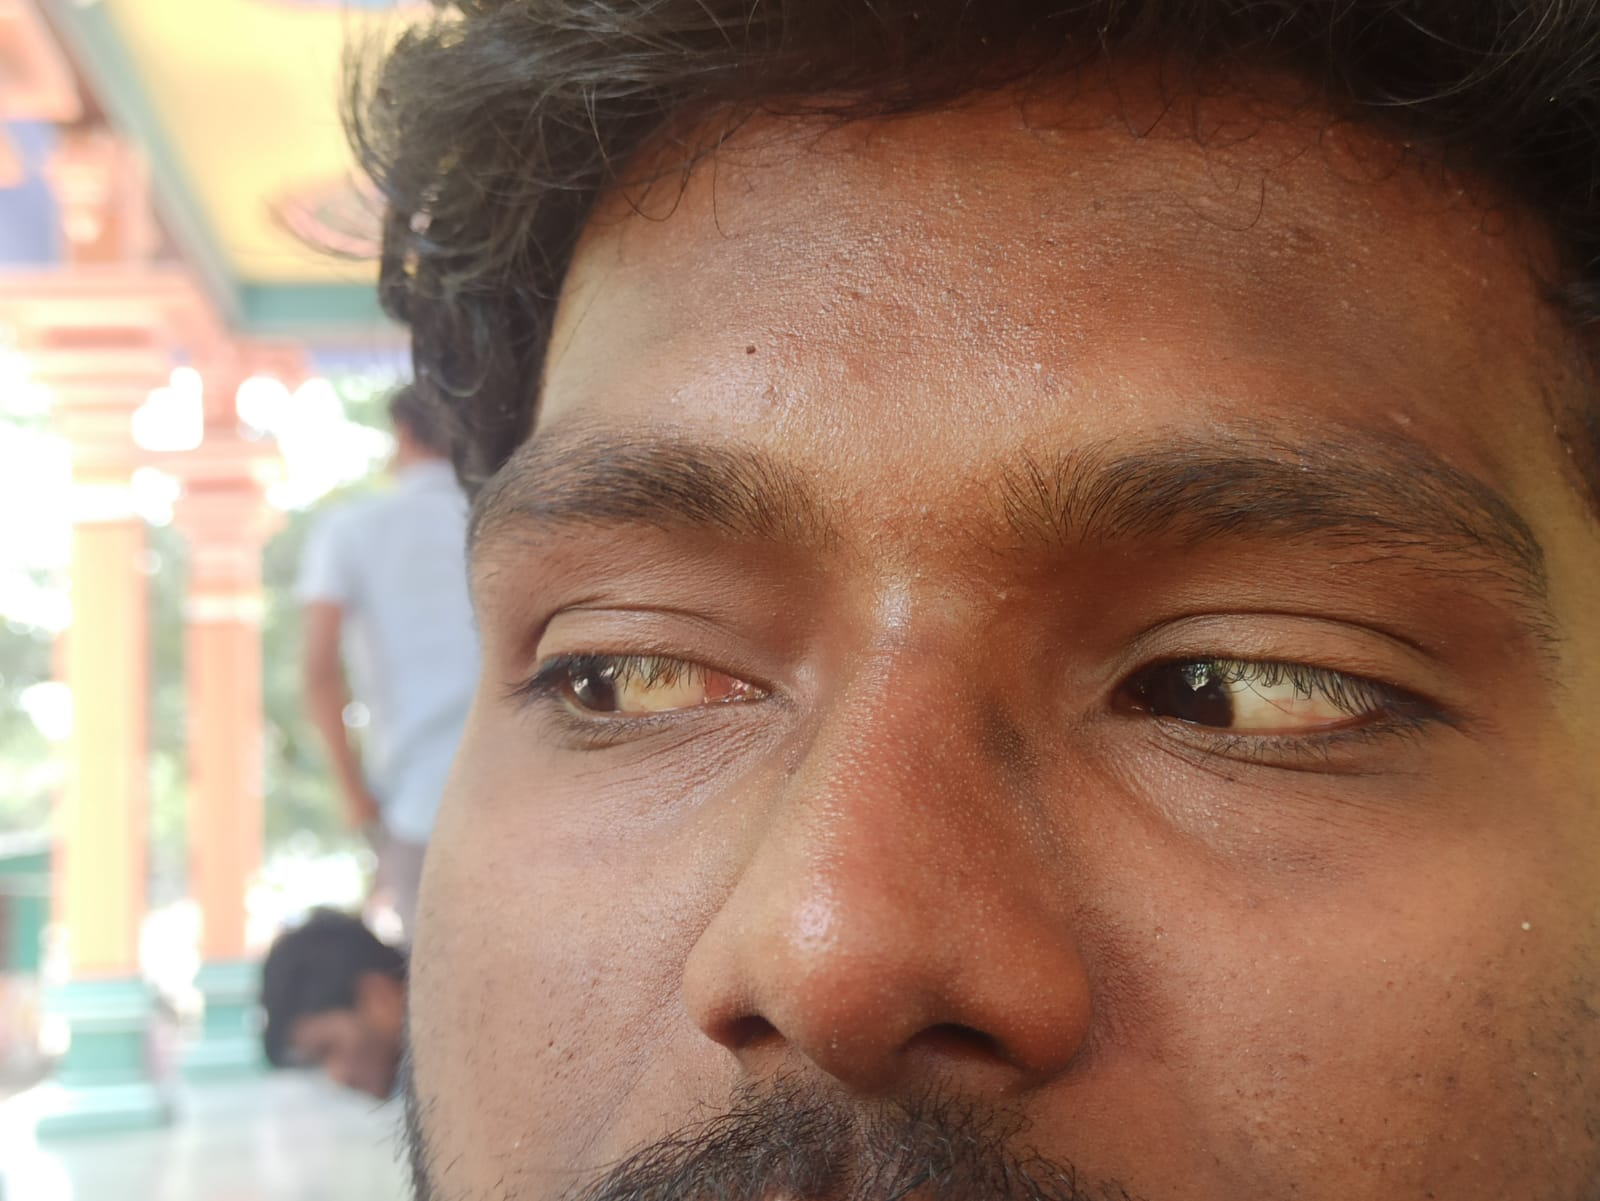EYE RIGHT: (962, 418, 1485, 815), (392, 416, 861, 801)
